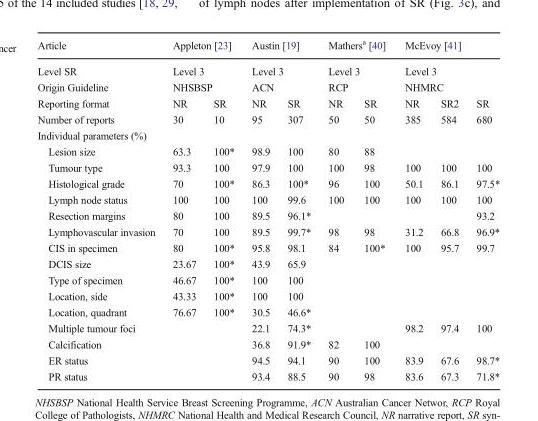table: (36, 37, 499, 381)
table column: (36, 37, 163, 381), (163, 37, 204, 381), (353, 37, 394, 381), (278, 37, 318, 381), (204, 37, 242, 381), (394, 37, 431, 381), (242, 37, 278, 381), (318, 37, 353, 381), (431, 37, 466, 381), (466, 37, 499, 381)
table column header: (36, 37, 499, 110)
table projected row header: (36, 126, 499, 142)
table row: (36, 57, 499, 78), (36, 37, 499, 57), (36, 142, 499, 159), (36, 78, 499, 94), (36, 94, 499, 110), (36, 110, 499, 126), (36, 126, 499, 142), (36, 159, 499, 175), (36, 175, 499, 191), (36, 191, 499, 207), (36, 207, 499, 223), (36, 223, 499, 239), (36, 239, 499, 255), (36, 255, 499, 271), (36, 271, 499, 287), (36, 287, 499, 303), (36, 303, 499, 319), (36, 319, 499, 335), (36, 335, 499, 351), (36, 351, 499, 367), (36, 367, 499, 381)
table spanning cell: (36, 37, 163, 110), (394, 37, 499, 94), (163, 37, 242, 94), (242, 37, 318, 94), (318, 37, 394, 94)
